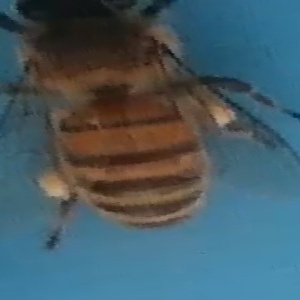bee: (2, 1, 300, 258)
